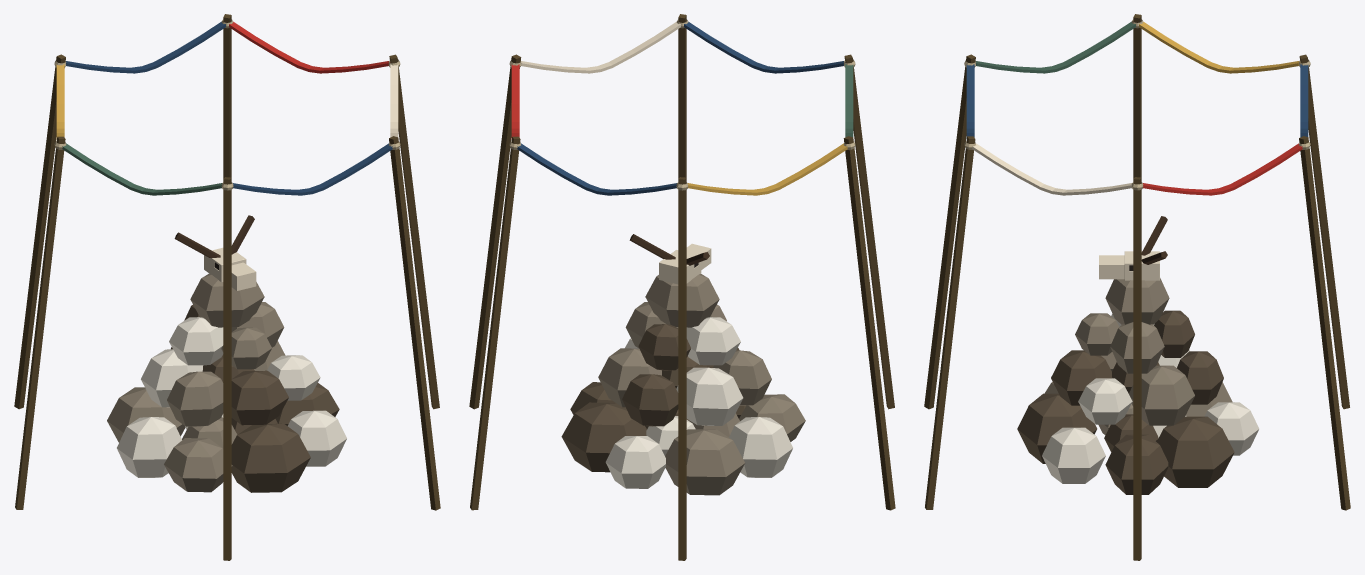
Rendered from Temple_Steppe.fbx.
The picture shows the model from 3 angles, left to right: view 1: azimuth 30°, elevation 25°; view 2: azimuth 150°, elevation 25°; view 3: azimuth 270°, elevation 25°; orthographic projection.
Parts seen in each view (by area): view 1: Temple_Steppe_Mesh; view 2: Temple_Steppe_Mesh; view 3: Temple_Steppe_Mesh.
Part boxes in pixels (left/top/right/bottom): Temple_Steppe_Mesh: left=14, top=14, right=440, bottom=560; Temple_Steppe_Mesh: left=469, top=14, right=895, bottom=560; Temple_Steppe_Mesh: left=924, top=14, right=1350, bottom=560.
Bounding box in the file's own units: 3.05 × 2.51 × 2.66.
